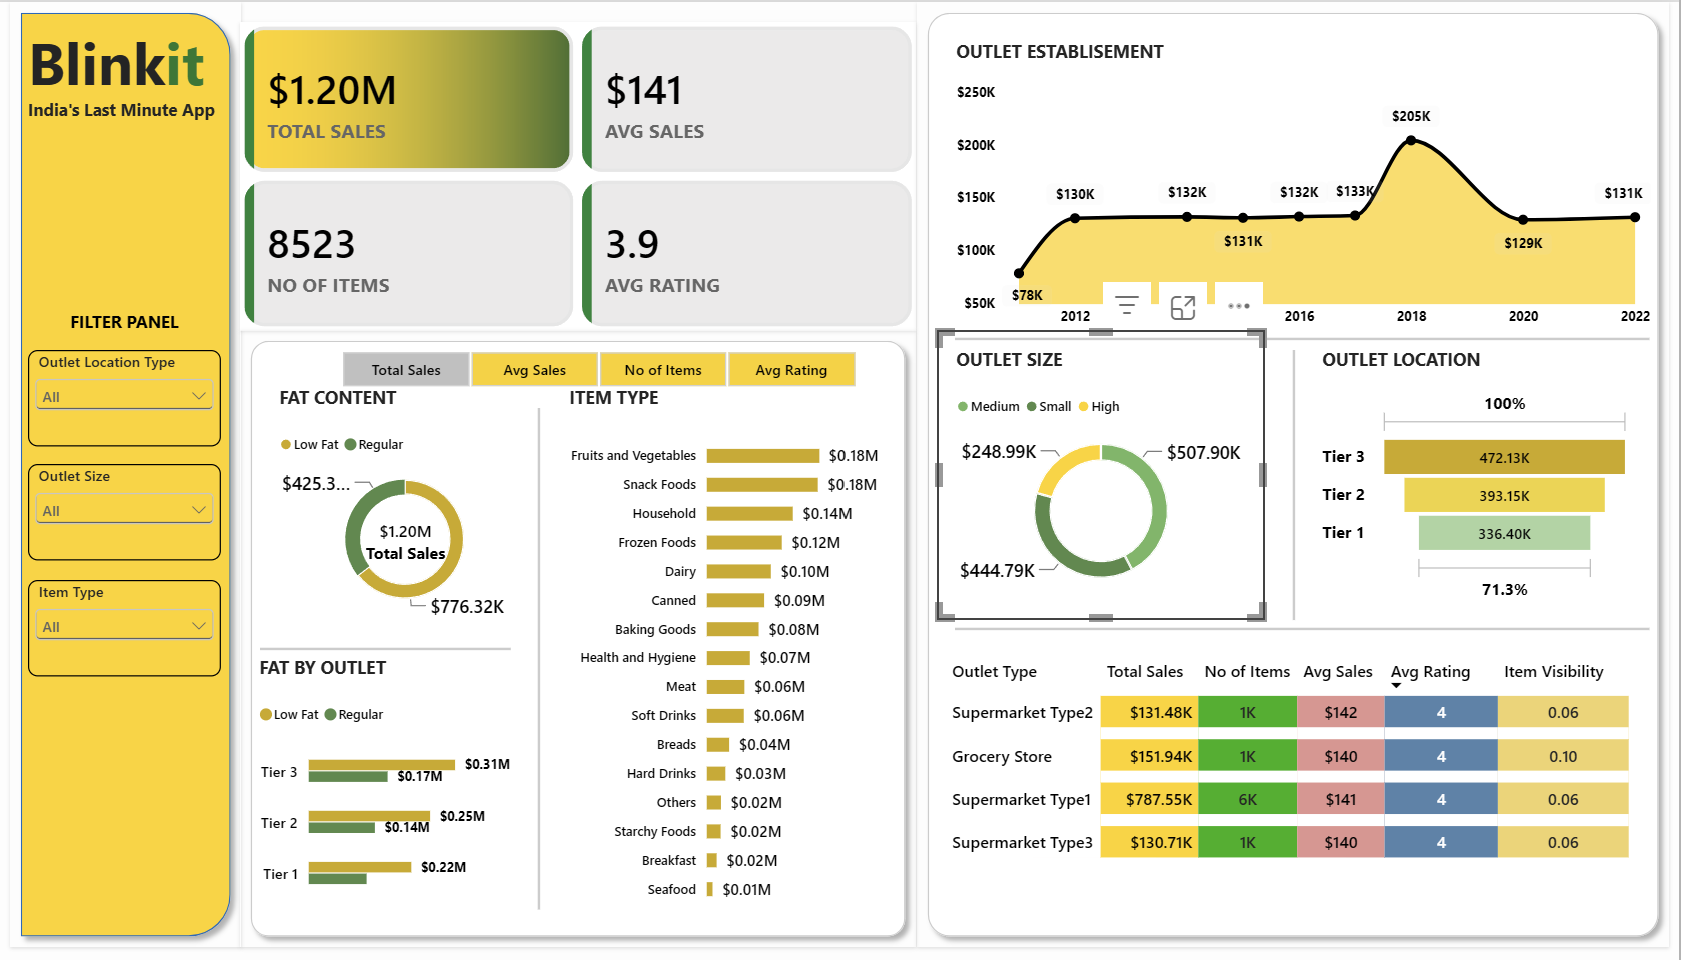

What the dashboard file says about the page in this screenshot:
{"tool":"powerbi","page":{"name":"Page 1","canvas":[1400,800],"ordinal":0},"visuals":[{"type":"shape","box":[16,0,192,784],"z":0},{"type":"textbox","box":[288,0,144,96],"z":1000},{"type":"textbox","box":[32,16,160,64],"z":2000},{"type":"textbox","box":[32,80,160,32],"z":3000},{"type":"cardVisual","fields":{"Data":["BlinkIT Grocery Data.Total Sales","BlinkIT Grocery Data.Avg Sales","BlinkIT Grocery Data.No of Items","BlinkIT Grocery Data.Avg Rating"]},"box":[208,16,560,256],"z":4000},{"type":"shape","box":[208,272,560,512],"z":5000},{"type":"donutChart","title":"FAT CONTENT","fields":{"Category":["BlinkIT Grocery Data.Item Fat Content"],"Y":["BlinkIT Grocery Data.Total Sales"]},"box":[224,304,240,224],"z":6000},{"type":"slicer","fields":{"Values":["Metrics.Metrics"]},"box":[272,288,464,32],"z":7000},{"type":"cardVisual","fields":{"Data":["BlinkIT Grocery Data.Total Sales"]},"box":[288,416,112,64],"z":8000},{"type":"clusteredBarChart","title":"FAT BY OUTLET","fields":{"Category":["BlinkIT Grocery Data.Outlet Location Type"],"Series":["BlinkIT Grocery Data.Item Fat Content"],"Y":["BlinkIT Grocery Data.Total Sales"]},"box":[208,528,240,240],"z":9000},{"type":"shape","box":[224,512,208,48],"z":10000},{"type":"shape","box":[432,336,48,416],"z":11000},{"type":"barChart","title":"ITEM TYPE","fields":{"Category":["BlinkIT Grocery Data.Item Type"],"Y":["BlinkIT Grocery Data.Total Sales"]},"box":[464,304,288,464],"z":12000},{"type":"shape","box":[768,0,624,784],"z":13000},{"type":"lineChart","title":"OUTLET ESTABLISEMENT","fields":{"Category":["BlinkIT Grocery Data.Outlet Establishment Year"],"Y":["BlinkIT Grocery Data.Total Sales"]},"box":[784,16,608,272],"z":14000},{"type":"shape","box":[800,256,576,48],"z":15000},{"type":"donutChart","title":"OUTLET SIZE","fields":{"Category":["BlinkIT Grocery Data.Outlet Size"],"Y":["BlinkIT Grocery Data.Total Sales"]},"box":[784,272,272,240],"z":16000},{"type":"shape","box":[1056,288,48,224],"z":17000},{"type":"funnel","title":"OUTLET LOCATION","fields":{"Category":["BlinkIT Grocery Data.Outlet Location Type"],"Y":["Sum(BlinkIT Grocery Data.Sales)"]},"box":[1088,272,288,240],"z":18000},{"type":"shape","box":[800,496,576,48],"z":19000},{"type":"pivotTable","fields":{"Rows":["BlinkIT Grocery Data.Outlet Type"],"Values":["BlinkIT Grocery Data.Total Sales","BlinkIT Grocery Data.No of Items","BlinkIT Grocery Data.Avg Sales","BlinkIT Grocery Data.Avg Rating","Avg(BlinkIT Grocery Data.Item Visibility)"]},"box":[776,528,624,240],"z":20000},{"type":"slicer","fields":{"Values":["BlinkIT Grocery Data.Outlet Location Type"]},"box":[32,288,160,80],"z":20001},{"type":"slicer","fields":{"Values":["BlinkIT Grocery Data.Outlet Size"]},"box":[32,384,160,80],"z":20002},{"type":"slicer","fields":{"Values":["BlinkIT Grocery Data.Item Type"]},"box":[32,480,160,80],"z":20003},{"type":"textbox","box":[32,256,160,32],"z":20004}]}

Visuals, with their boxes in screenshot pixels (x1, y1, x2, y2), scaled from the page's 1400x800 canvas onto the 1682x960 screenshot:
shape: [19,0,250,941]
textbox: [346,0,519,115]
textbox: [38,19,231,96]
textbox: [38,96,231,134]
cardVisual - BlinkIT Grocery Data.Total Sales x BlinkIT Grocery Data.Avg Sales: [250,19,923,326]
shape: [250,326,923,941]
"FAT CONTENT" donutChart: [269,365,557,634]
slicer - Metrics.Metrics: [327,346,884,384]
cardVisual - BlinkIT Grocery Data.Total Sales: [346,499,481,576]
"FAT BY OUTLET" clusteredBarChart: [250,634,538,922]
shape: [269,614,519,672]
shape: [519,403,577,902]
"ITEM TYPE" barChart: [557,365,903,922]
shape: [923,0,1672,941]
"OUTLET ESTABLISEMENT" lineChart: [942,19,1672,346]
shape: [961,307,1653,365]
"OUTLET SIZE" donutChart: [942,326,1269,614]
shape: [1269,346,1326,614]
"OUTLET LOCATION" funnel: [1307,326,1653,614]
shape: [961,595,1653,653]
pivotTable - BlinkIT Grocery Data.Outlet Type x BlinkIT Grocery Data.Total Sales: [932,634,1681,922]
slicer - BlinkIT Grocery Data.Outlet Location Type: [38,346,231,442]
slicer - BlinkIT Grocery Data.Outlet Size: [38,461,231,557]
slicer - BlinkIT Grocery Data.Item Type: [38,576,231,672]
textbox: [38,307,231,346]
